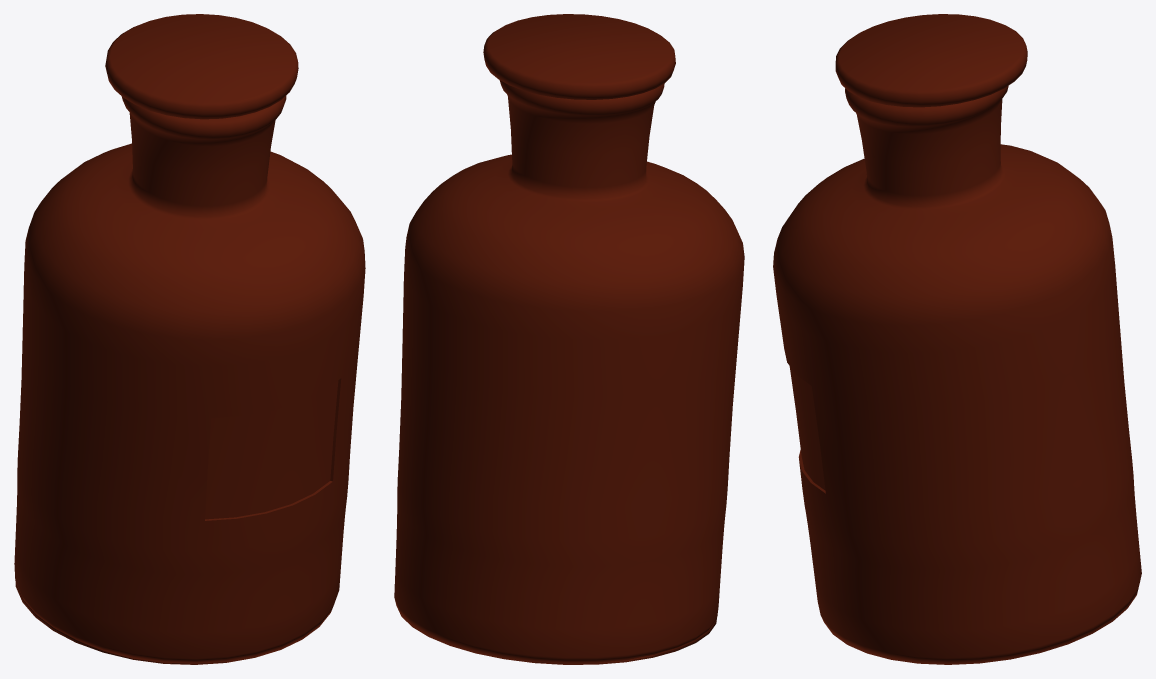
The model's file is 棕色试剂瓶.fbx.
3 views of the same model, side by side, from view 1: azimuth 30°, elevation 25°; view 2: azimuth 150°, elevation 25°; view 3: azimuth 270°, elevation 25° (orthographic).
Visible parts, largest first — view 1: Line001, Line002, 对象002; view 2: Line001, Line002; view 3: Line001, Line002, 对象002.
Boxes of the visible parts, bbox=[...] form: Line001: bbox=[14, 96, 365, 664]; Line002: bbox=[105, 14, 298, 119]; 对象002: bbox=[205, 380, 338, 519]; Line001: bbox=[394, 80, 744, 664]; Line002: bbox=[483, 14, 675, 160]; Line001: bbox=[773, 86, 1141, 664]; Line002: bbox=[835, 14, 1027, 107]; 对象002: bbox=[789, 366, 825, 490].
Size of the model in its own units: 233 by 426 by 252.
